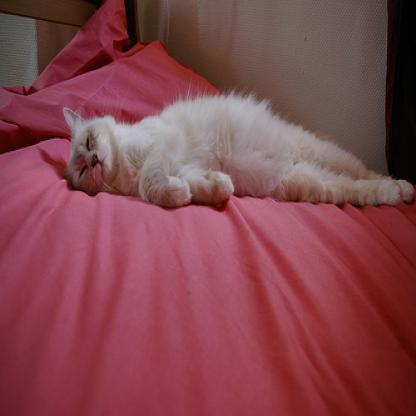cat: (62, 91, 415, 211)
